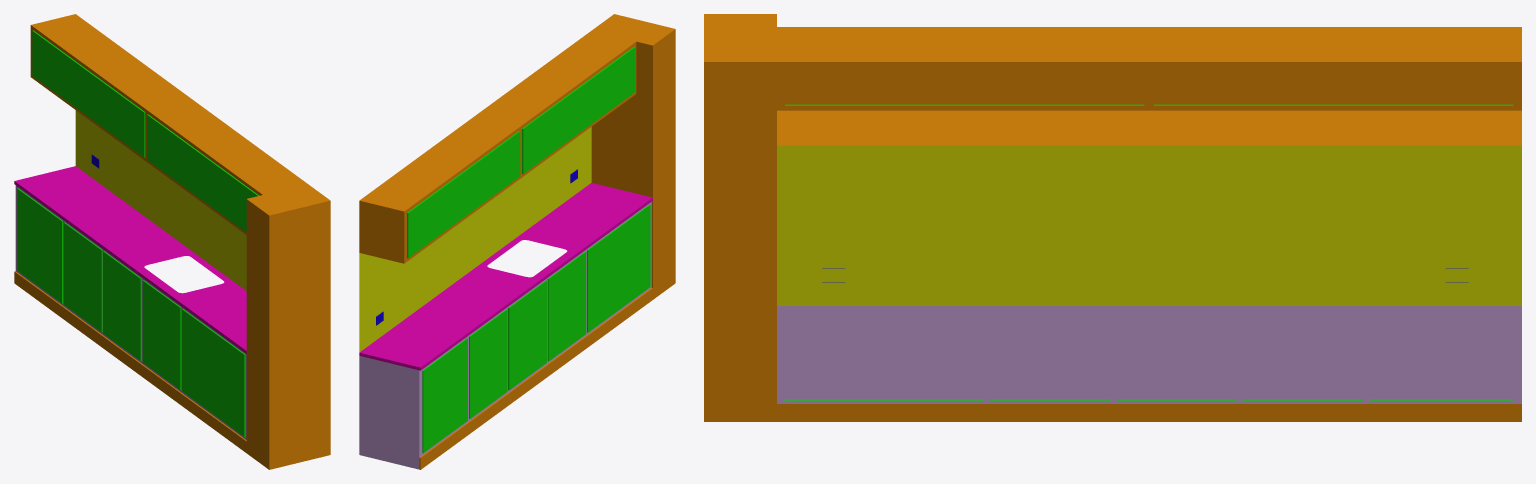
Rendered from Kitchen Unit.fbx.
The picture shows the model from 3 angles, left to right: view 1: azimuth 30°, elevation 25°; view 2: azimuth 150°, elevation 25°; view 3: azimuth 270°, elevation 25°; orthographic projection. The views are drawn at different scales.
Parts seen in each view (by area): view 1: Cube.001; view 2: Cube.001; view 3: Cube.001.
Boxes of the visible parts, x1,y1,x2,y2 form: Cube.001: (14,14,330,469); Cube.001: (359,14,675,469); Cube.001: (704,14,1521,421).
Size of the model in its own units: 67.31 by 248 by 451.
